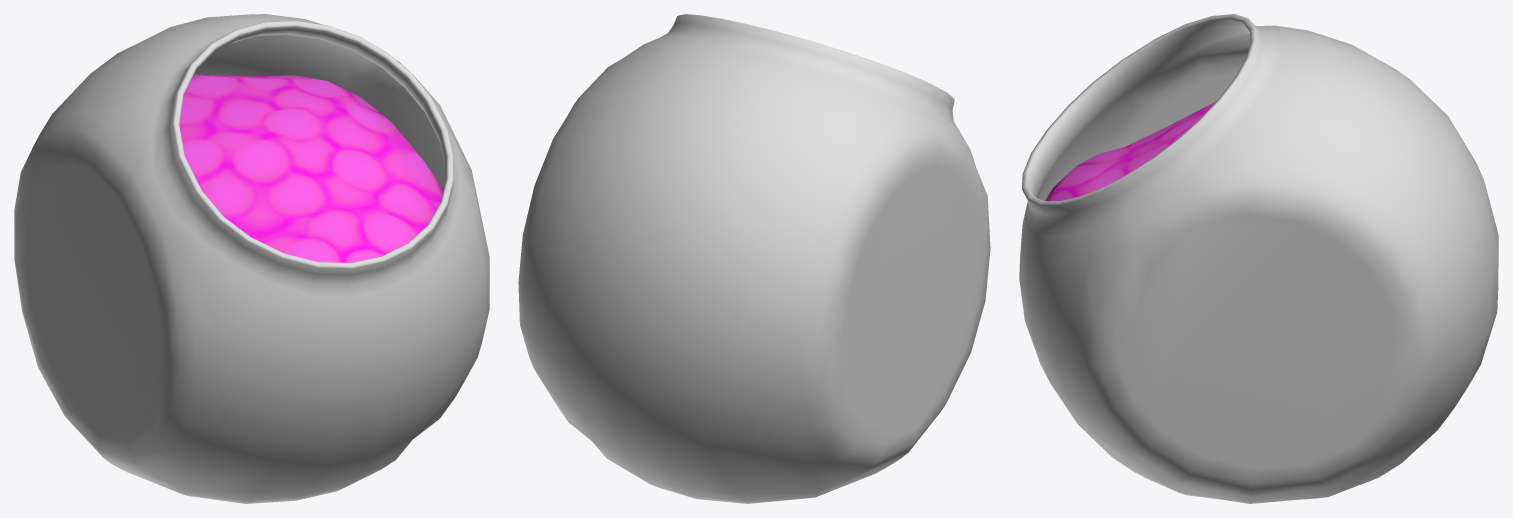
Rendered from BuffetCandy02_4.FBX.
3 renders of one model, left to right at view 1: azimuth 30°, elevation 25°; view 2: azimuth 150°, elevation 25°; view 3: azimuth 270°, elevation 25°, orthographic. The views are drawn at different scales.
Parts seen in each view (by area): view 1: BuffetCandy02_4; view 2: BuffetCandy02_4; view 3: BuffetCandy02_4.
Part boxes in pixels (x1,y1,x2,y2): BuffetCandy02_4: (14, 14, 489, 503); BuffetCandy02_4: (518, 14, 990, 503); BuffetCandy02_4: (1019, 14, 1498, 503).
Size of what is drawn, in the model's own units: 0.2283 by 0.2923 by 0.3064.
